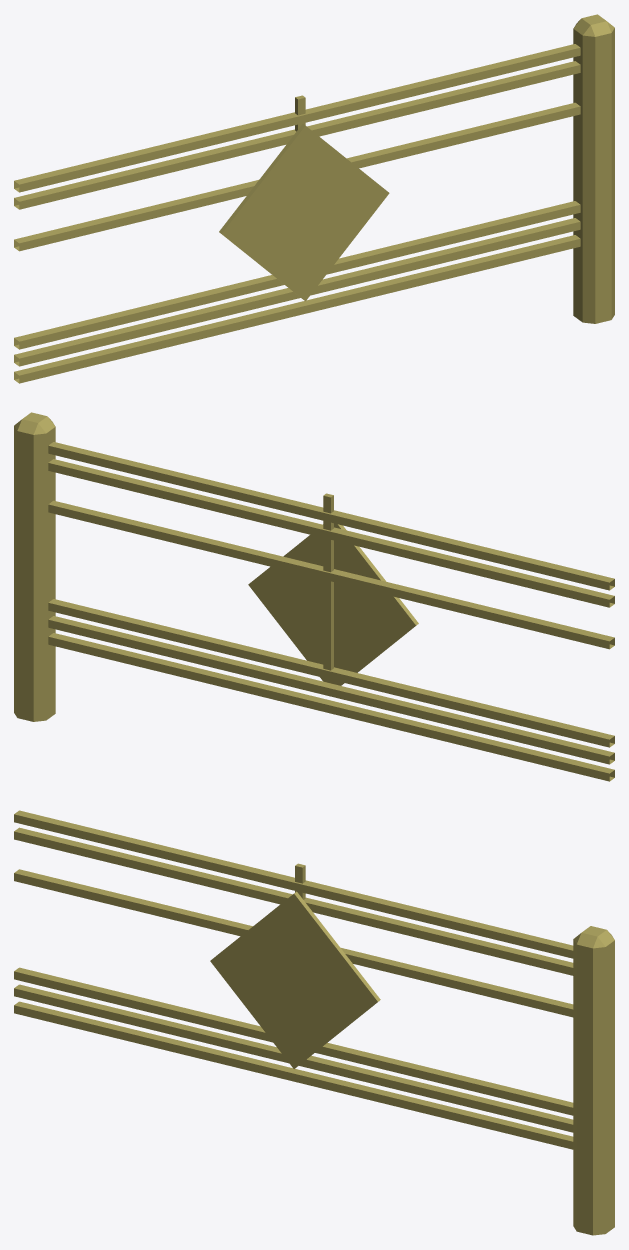
Rendered from Tower_Station_Fence_Art.fbx.
The picture shows the model from 3 angles, top to bottom: view 1: azimuth 30°, elevation 25°; view 2: azimuth 150°, elevation 25°; view 3: azimuth 330°, elevation 25°; orthographic projection.
Parts seen in each view (by area): view 1: Tower_Station_Fence_Art; view 2: Tower_Station_Fence_Art; view 3: Tower_Station_Fence_Art.
Part boxes in pixels (left/top/right/bottom): Tower_Station_Fence_Art: left=14, top=14, right=614, bottom=383; Tower_Station_Fence_Art: left=14, top=412, right=614, bottom=781; Tower_Station_Fence_Art: left=14, top=810, right=614, bottom=1235.
Bounding box in the file's own units: 220 × 105 × 11.98.
